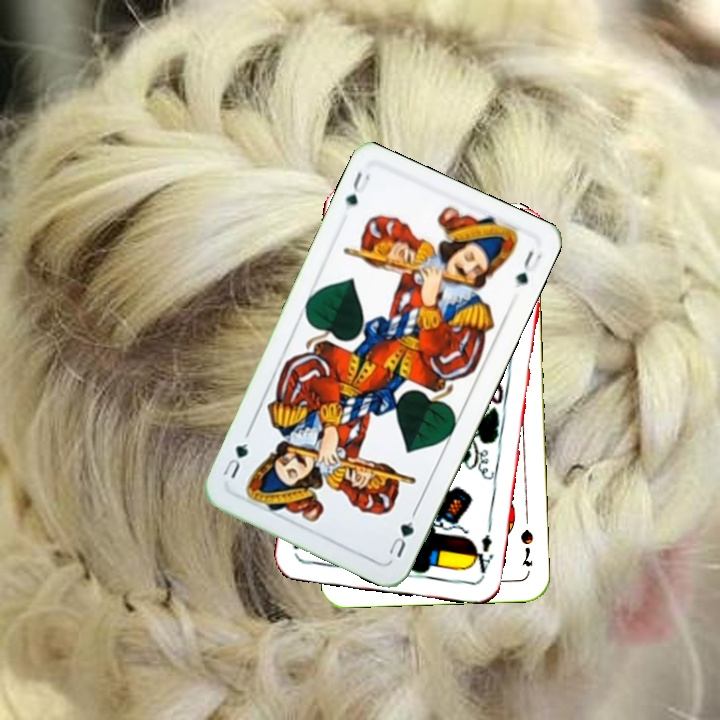EA: (467, 530, 496, 580)
GU: (384, 517, 417, 560), (341, 167, 373, 209)
S7: (517, 525, 536, 569)
